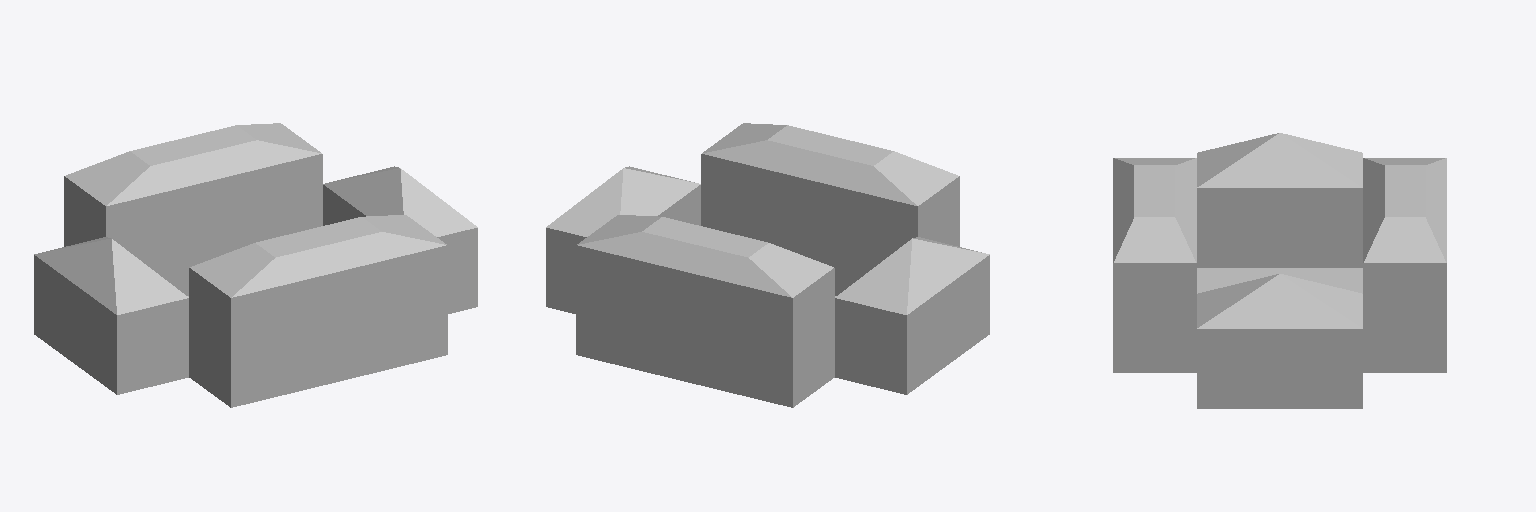
The model's file is town.obj.
3 renders of one model, left to right at view 1: azimuth 30°, elevation 25°; view 2: azimuth 150°, elevation 25°; view 3: azimuth 270°, elevation 25°, orthographic.
Visible parts, largest first — view 1: Cube; view 2: Cube; view 3: Cube.
Boxes of the visible parts, x1,y1,x2,y2 form: Cube: [34, 123, 477, 407]; Cube: [546, 123, 989, 407]; Cube: [1113, 133, 1446, 408].
Bounding box in the file's own units: 10 × 3.42 × 8.